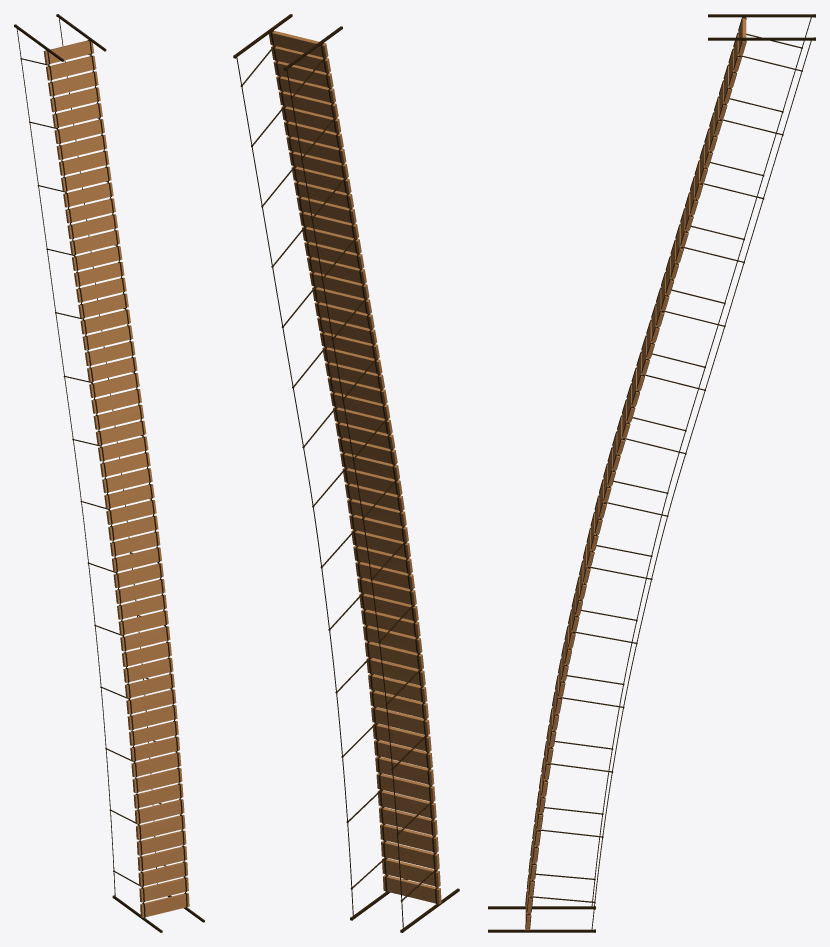
Rendered from Wooden Rope Bridge Extra Long.fbx.
3 renders of one model, left to right at view 1: azimuth 30°, elevation 25°; view 2: azimuth 150°, elevation 25°; view 3: azimuth 270°, elevation 25°, orthographic. The views are drawn at different scales.
Parts seen in each view (by area): view 1: Wooden Rope Bridge Loong too long; view 2: Wooden Rope Bridge Loong too long; view 3: Wooden Rope Bridge Loong too long.
Boxes of the visible parts, x1=… form: Wooden Rope Bridge Loong too long: x1=14, y1=14, x2=204, y2=932; Wooden Rope Bridge Loong too long: x1=233, y1=14, x2=459, y2=932; Wooden Rope Bridge Loong too long: x1=488, y1=14, x2=815, y2=932.
Size of the model in its own units: 200 by 3246 by 1078.
